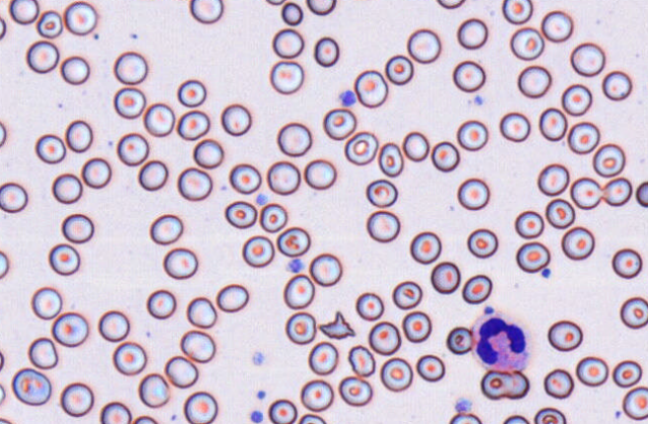GRAN: (473, 311, 529, 371)
PLT: (284, 258, 308, 273), (455, 397, 476, 413), (340, 89, 357, 107), (251, 349, 266, 366), (255, 192, 270, 206), (250, 411, 265, 422), (542, 268, 553, 279), (257, 390, 267, 402), (483, 306, 495, 314)
RBC: (11, 367, 51, 405), (480, 369, 529, 400), (51, 311, 88, 347), (354, 69, 388, 107), (406, 28, 441, 63), (276, 122, 312, 156), (60, 382, 94, 417), (177, 166, 212, 200), (63, 0, 97, 35), (266, 160, 300, 195), (570, 42, 605, 76), (112, 341, 146, 375), (269, 60, 303, 94), (344, 131, 378, 165), (510, 26, 544, 60), (180, 329, 215, 362), (164, 355, 198, 388), (380, 357, 413, 391), (368, 321, 401, 355), (309, 252, 342, 286), (561, 226, 594, 260), (322, 107, 356, 140), (592, 143, 625, 177), (116, 132, 149, 166), (517, 65, 551, 98), (113, 51, 147, 84), (547, 319, 582, 351), (162, 247, 197, 279), (283, 273, 314, 309), (26, 40, 59, 73), (567, 121, 600, 154), (183, 391, 217, 423), (366, 210, 400, 242), (143, 102, 175, 136), (138, 372, 169, 407), (515, 241, 550, 272), (300, 379, 333, 411), (570, 176, 602, 209), (409, 231, 441, 264), (537, 163, 569, 196), (457, 177, 489, 210), (452, 60, 485, 92), (338, 375, 372, 406), (276, 226, 310, 257), (149, 213, 183, 244), (242, 235, 274, 267), (48, 243, 80, 275), (456, 17, 488, 49), (541, 10, 573, 42), (456, 119, 488, 151), (285, 311, 316, 344), (31, 286, 62, 319), (177, 109, 210, 140), (561, 83, 592, 116), (303, 158, 336, 189), (220, 103, 251, 136), (308, 341, 338, 375), (27, 337, 58, 369), (98, 309, 129, 341), (113, 87, 145, 118), (229, 163, 261, 194), (575, 356, 608, 386), (430, 261, 460, 294), (61, 213, 94, 243), (538, 107, 567, 141), (51, 172, 82, 203), (611, 247, 642, 278), (499, 111, 530, 142), (401, 310, 431, 342), (186, 296, 216, 328), (466, 228, 498, 258), (272, 28, 304, 58), (543, 368, 574, 398), (192, 138, 223, 168), (461, 274, 492, 304), (81, 157, 111, 188), (35, 133, 66, 163), (138, 159, 168, 190), (601, 70, 632, 100), (216, 283, 248, 312), (365, 178, 397, 207), (620, 296, 648, 329), (224, 200, 257, 228), (545, 198, 575, 228), (146, 289, 176, 319), (347, 344, 375, 376), (65, 119, 92, 152), (622, 386, 648, 420), (378, 142, 403, 177), (392, 280, 422, 309), (602, 177, 632, 206), (431, 140, 459, 171), (385, 54, 413, 85), (60, 55, 89, 84), (415, 354, 445, 382), (612, 359, 642, 387), (514, 210, 544, 238), (259, 202, 287, 232), (0, 181, 27, 212), (355, 291, 383, 320), (177, 79, 206, 107), (402, 131, 429, 161), (313, 36, 339, 67), (36, 9, 63, 38), (189, 0, 223, 23), (446, 326, 472, 354), (268, 398, 297, 423), (502, 0, 532, 24), (9, 0, 39, 24), (99, 401, 131, 423), (280, 1, 303, 25), (533, 407, 566, 423), (306, 0, 336, 15), (448, 412, 482, 423), (635, 180, 648, 207), (297, 413, 326, 424), (435, 0, 465, 9), (501, 414, 530, 423), (0, 250, 8, 279), (131, 415, 158, 423), (0, 120, 6, 147), (0, 15, 6, 39), (0, 382, 5, 405), (264, 0, 286, 5), (0, 350, 4, 372), (0, 417, 12, 423)
Schistocyte: (320, 310, 356, 340)
